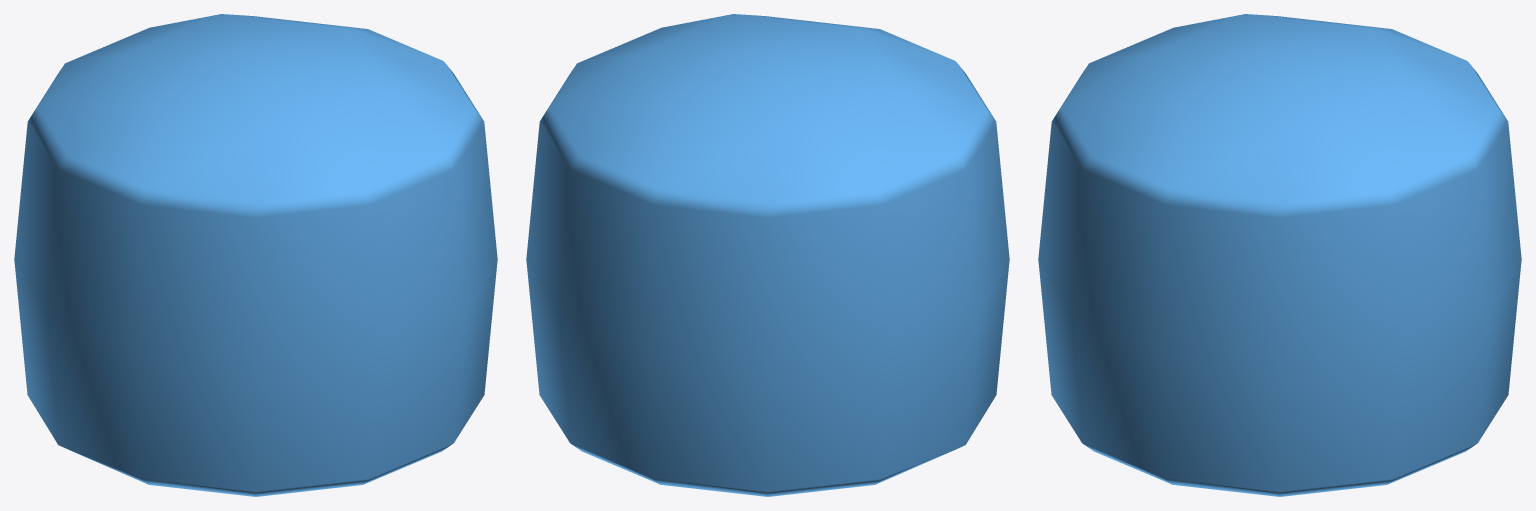
File: chair_005.fbx
The picture shows the model from 3 angles, left to right: view 1: azimuth 30°, elevation 25°; view 2: azimuth 150°, elevation 25°; view 3: azimuth 270°, elevation 25°; orthographic projection.
Visible parts, largest first — view 1: chair_005; view 2: chair_005; view 3: chair_005.
Part boxes in pixels (x1,y1,x2,y2): chair_005: (14, 14, 497, 496); chair_005: (526, 14, 1009, 496); chair_005: (1038, 14, 1521, 496).
Size of the model in its own units: 85.19 by 85.19 by 68.29.
